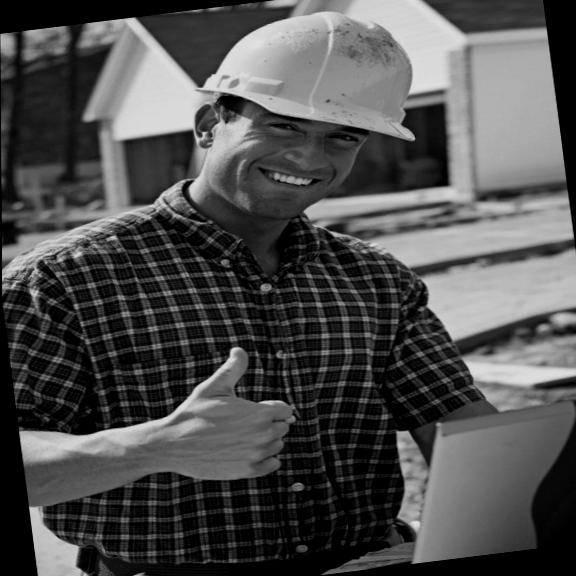no_safety_vest: (2, 224, 446, 576)
